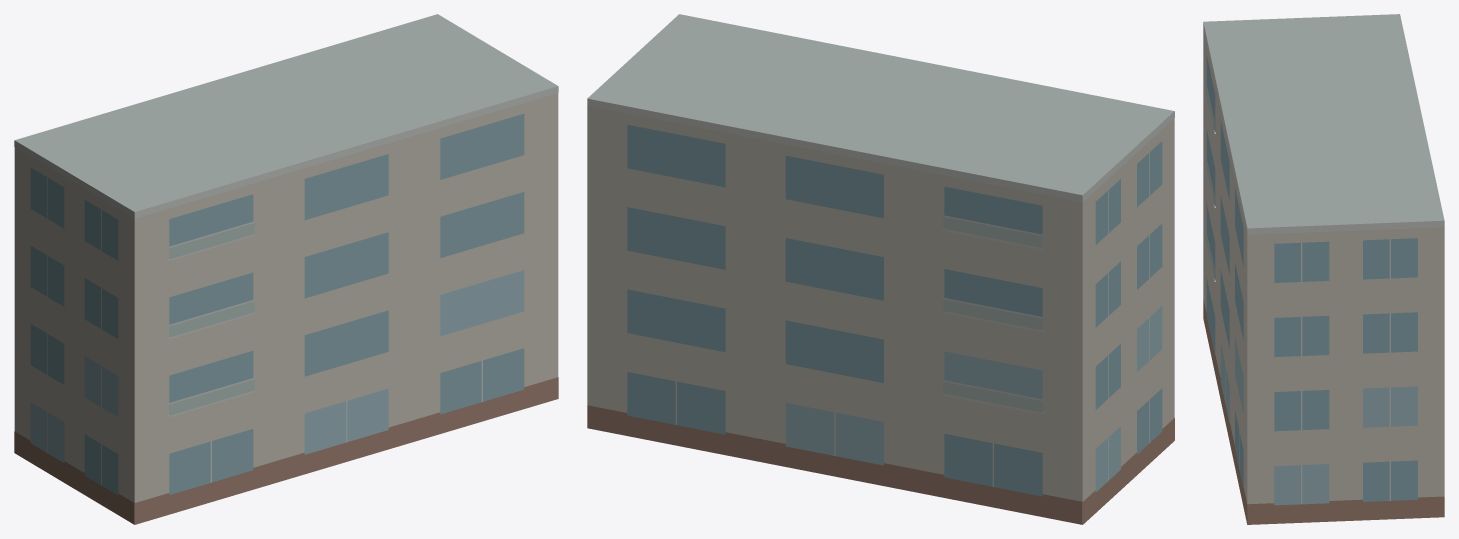
The model's file is survey-upis-32998713.glb.
3 views of the same model, side by side, from view 1: azimuth 30°, elevation 25°; view 2: azimuth 150°, elevation 25°; view 3: azimuth 270°, elevation 25° (orthographic). The views are drawn at different scales.
Visible parts, largest first — view 1: survey-upis-32998713.tmp; view 2: survey-upis-32998713.tmp; view 3: survey-upis-32998713.tmp.
Part boxes in pixels (left/top/right/bottom): survey-upis-32998713.tmp: left=14, top=14, right=558, bottom=524; survey-upis-32998713.tmp: left=587, top=14, right=1174, bottom=524; survey-upis-32998713.tmp: left=1203, top=14, right=1444, bottom=524.
Bounding box in the file's own units: 17.84 × 11.5 × 8.49.
